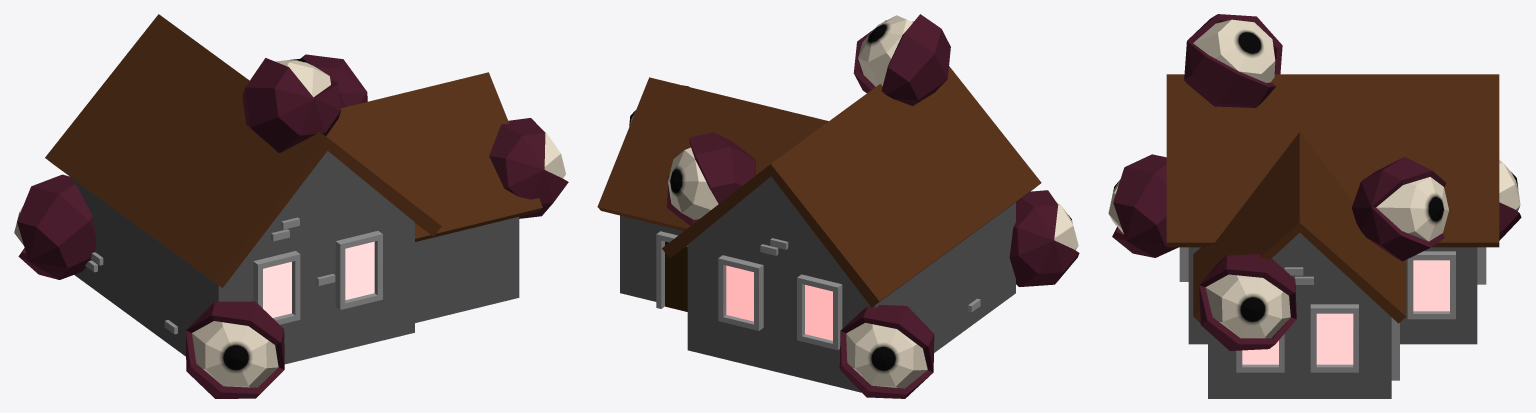
File: Build_3_Eye.fbx
The picture shows the model from 3 angles, left to right: view 1: azimuth 30°, elevation 25°; view 2: azimuth 150°, elevation 25°; view 3: azimuth 270°, elevation 25°; orthographic projection. The views are drawn at different scales.
Visible parts, largest first — view 1: No_Madness.018; view 2: No_Madness.018; view 3: No_Madness.018.
Boxes of the visible parts, x1,y1,x2,y2 form: No_Madness.018: (14,14,568,398); No_Madness.018: (597,14,1079,398); No_Madness.018: (1108,14,1521,398).
Size of the model in its own units: 5.67 by 3.62 by 4.86.
